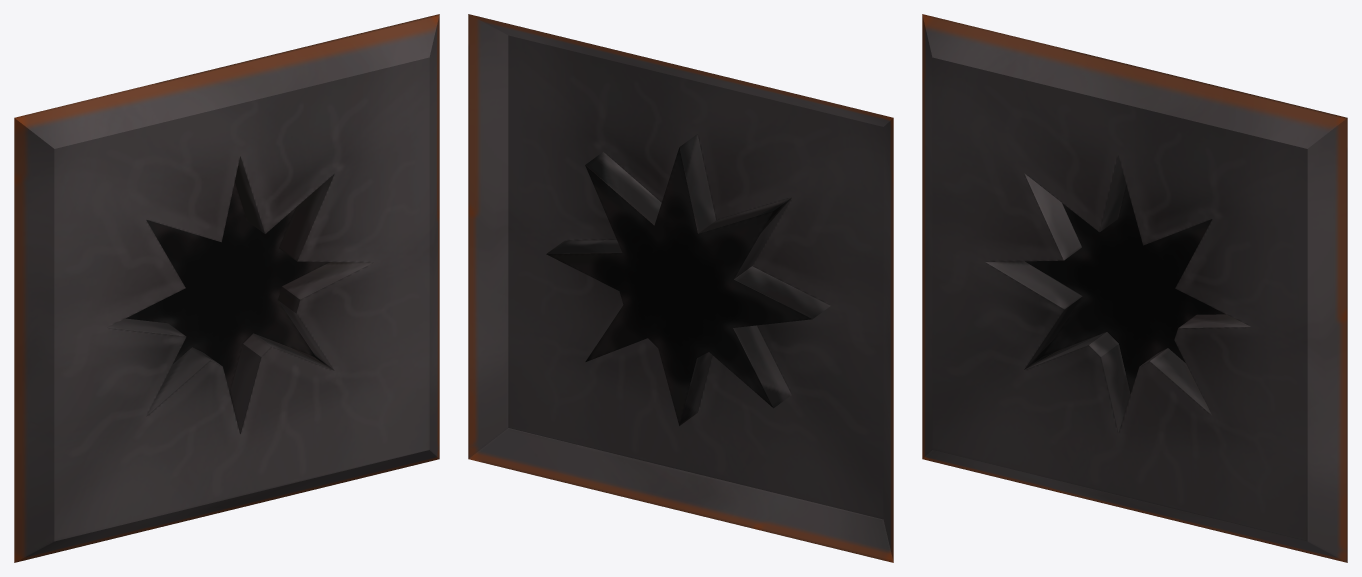
The model's file is Switchable_Blockade_Base.obj.
3 views of the same model, side by side, from view 1: azimuth 30°, elevation 25°; view 2: azimuth 150°, elevation 25°; view 3: azimuth 330°, elevation 25° (orthographic).
Parts seen in each view (by area): view 1: Cube; view 2: Cube; view 3: Cube.
Part boxes in pixels (left/top/right/bottom): Cube: left=14, top=14, right=439, bottom=562; Cube: left=468, top=14, right=893, bottom=562; Cube: left=922, top=14, right=1347, bottom=562.
Bounding box in the file's own units: 2 × 2 × 0.1493.
